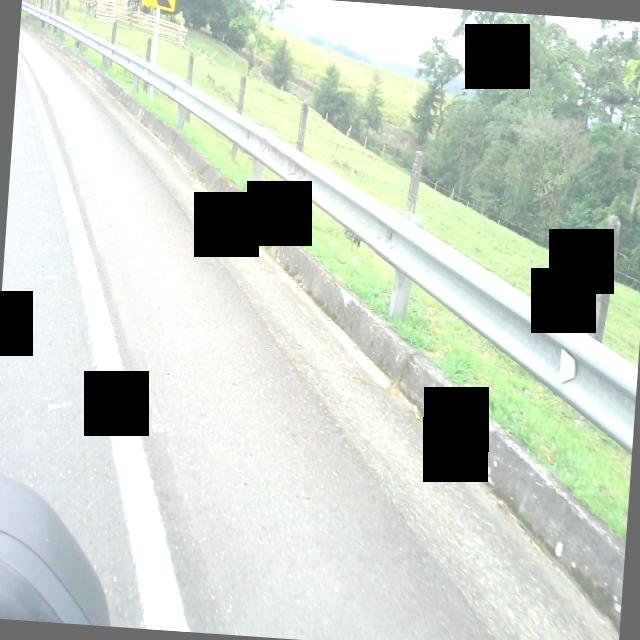DITCH: (0, 0, 640, 640), (0, 23, 640, 640), (0, 41, 640, 640)
